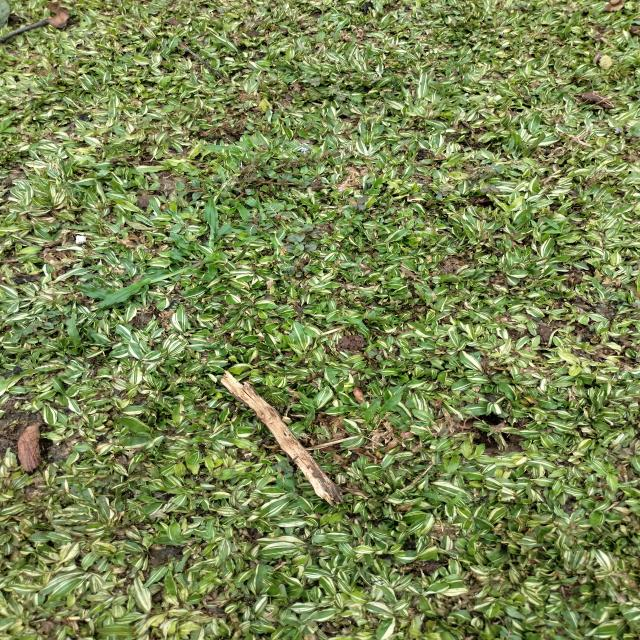buah daun: (270, 458, 298, 494), (238, 211, 274, 236), (278, 257, 320, 278), (326, 83, 365, 105), (260, 200, 292, 222), (480, 161, 508, 177), (348, 195, 370, 212), (433, 185, 452, 200), (481, 183, 501, 197), (306, 77, 325, 88)
gingseng jawa: (341, 209, 367, 233), (380, 197, 396, 212)
rambat atas: (536, 212, 588, 234), (418, 491, 464, 508)
rambat bawah: (70, 256, 207, 312), (200, 198, 237, 253), (362, 393, 403, 431), (0, 114, 18, 134)
tunggang tengah: (134, 116, 154, 130), (231, 102, 252, 114)
ungu tunggang: (286, 225, 326, 258), (173, 178, 210, 201), (275, 172, 313, 190)
